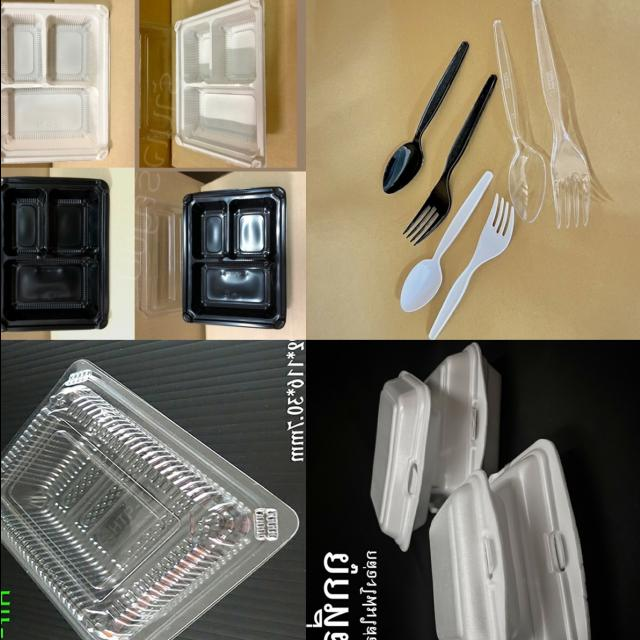plastik: (0, 359, 298, 640), (488, 439, 589, 640), (428, 470, 532, 640), (0, 3, 108, 163), (0, 176, 107, 332), (403, 75, 495, 245), (175, 0, 264, 168), (183, 187, 284, 328), (530, 0, 589, 228), (399, 171, 492, 312), (381, 42, 467, 194), (369, 371, 441, 552), (424, 343, 500, 512), (428, 194, 513, 340), (493, 20, 545, 223)
